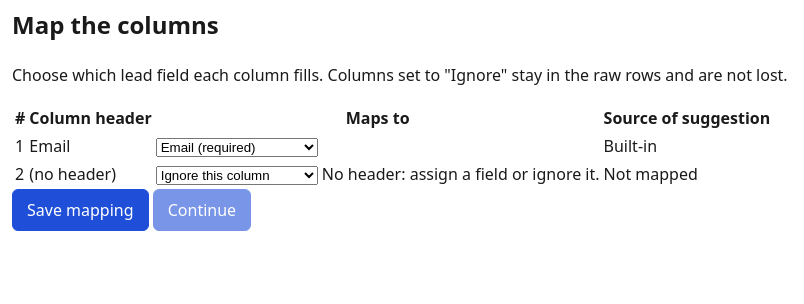
Test: MappingStep › headerless column: hinted, can be assigned, and the save body carries the choice
Check: the text "No header: assign a field or ignore it." is shown, box [318,163,600,185]
Select "First name (required)" in the dropdown named "column 2: (no header)". click: (237, 175)
box: [156,166,318,185]
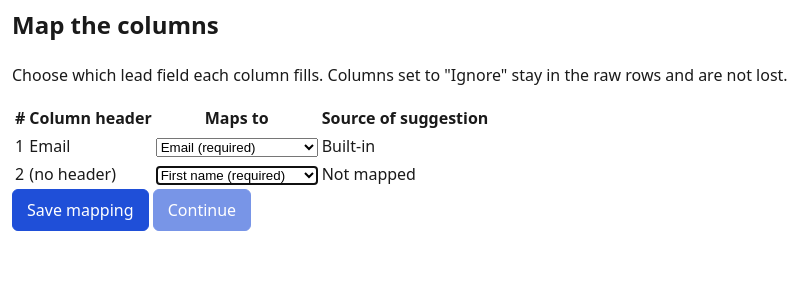
Click the button "Save mapping". click: (80, 210)
box: [12,189,148,231]
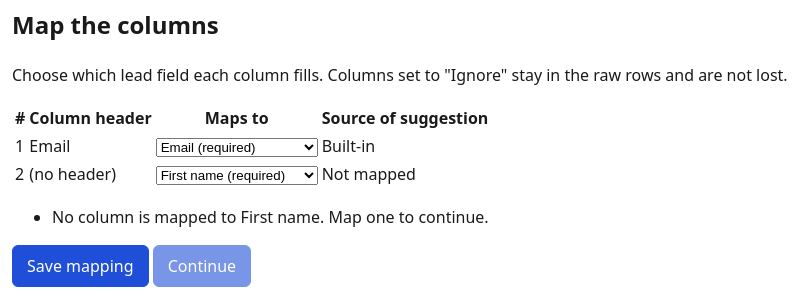
Check: the button "Continue" is disabled, box [153,245,251,287]
Check: the list item "No column is mapped to First name. Map one to continue." is shown, box [52,206,489,228]
